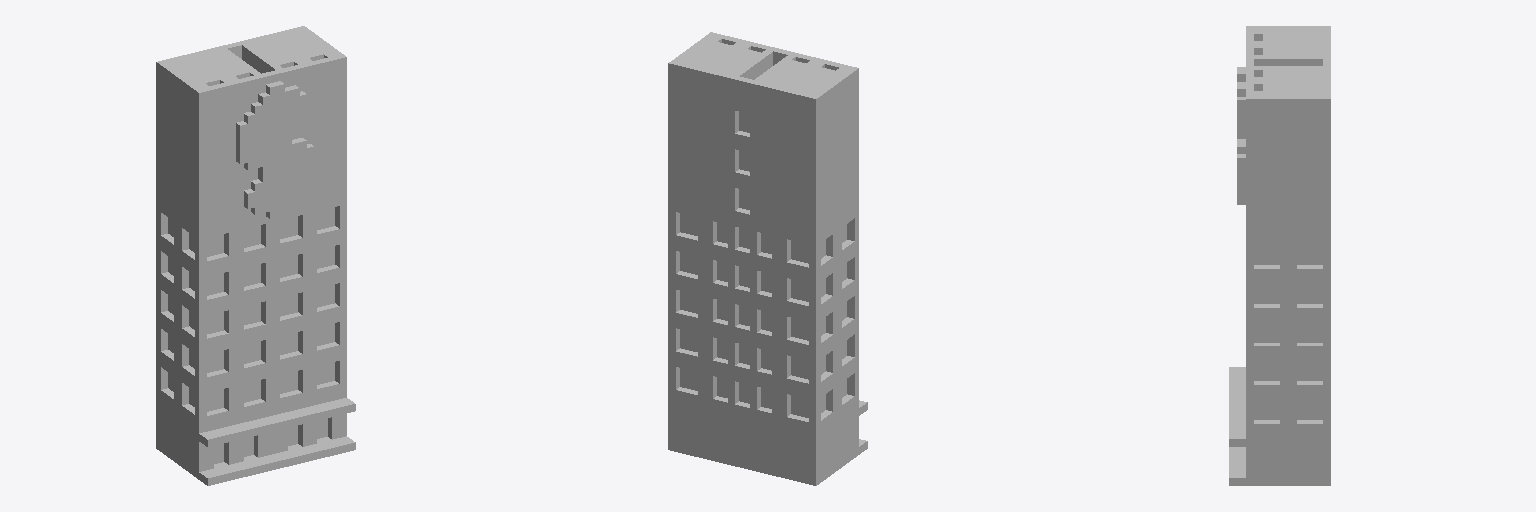
The model's file is Bank Build.obj.
3 renders of one model, left to right at view 1: azimuth 30°, elevation 25°; view 2: azimuth 150°, elevation 25°; view 3: azimuth 270°, elevation 25°, orthographic.
Parts seen in each view (by area): view 1: object 1; view 2: object 1; view 3: object 1.
Part boxes in pixels (x1,y1,x2,y2): object 1: (156,26,355,485); object 1: (668,32,867,485); object 1: (1229,26,1330,485).
Bounding box in the file's own units: 2 × 5 × 1.2.